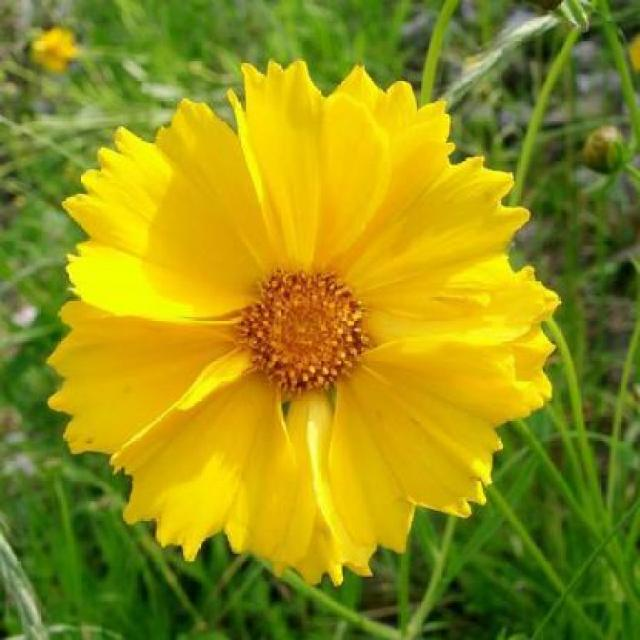flower: (48, 62, 550, 570)
